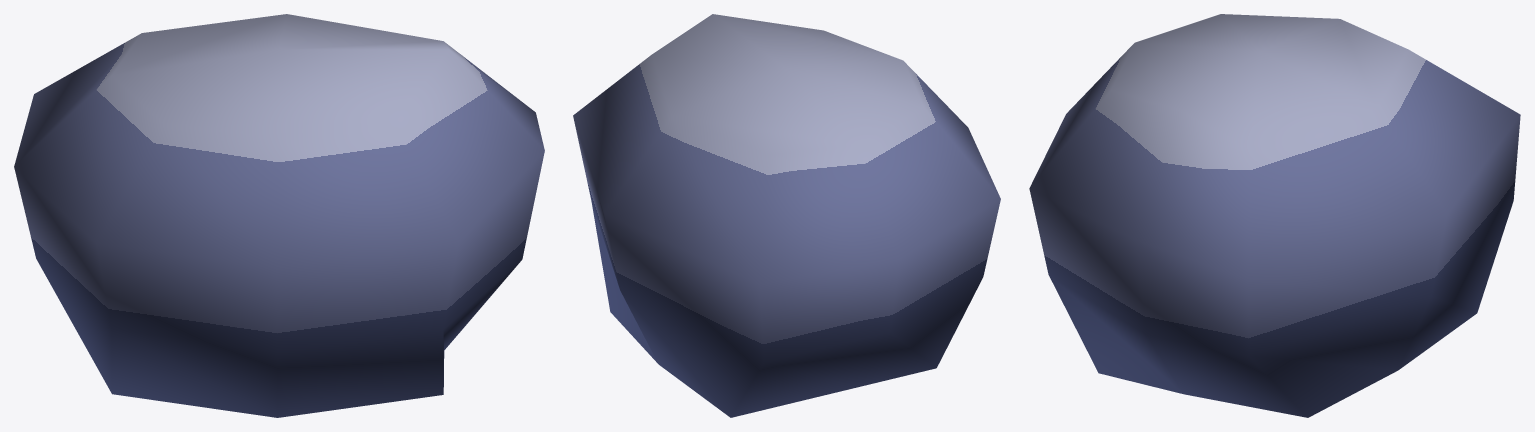
The model's file is Rock_2.fbx.
The picture shows the model from 3 angles, left to right: view 1: azimuth 30°, elevation 25°; view 2: azimuth 150°, elevation 25°; view 3: azimuth 270°, elevation 25°; orthographic projection. The views are drawn at different scales.
Parts seen in each view (by area): view 1: Rock03.002; view 2: Rock03.002; view 3: Rock03.002.
Part boxes in pixels (left/top/right/bottom): Rock03.002: left=14, top=14, right=544, bottom=417; Rock03.002: left=573, top=14, right=1000, bottom=417; Rock03.002: left=1029, top=14, right=1520, bottom=417.
Size of the model in its own units: 179 by 112 by 174.
1 material, 1 textured.
